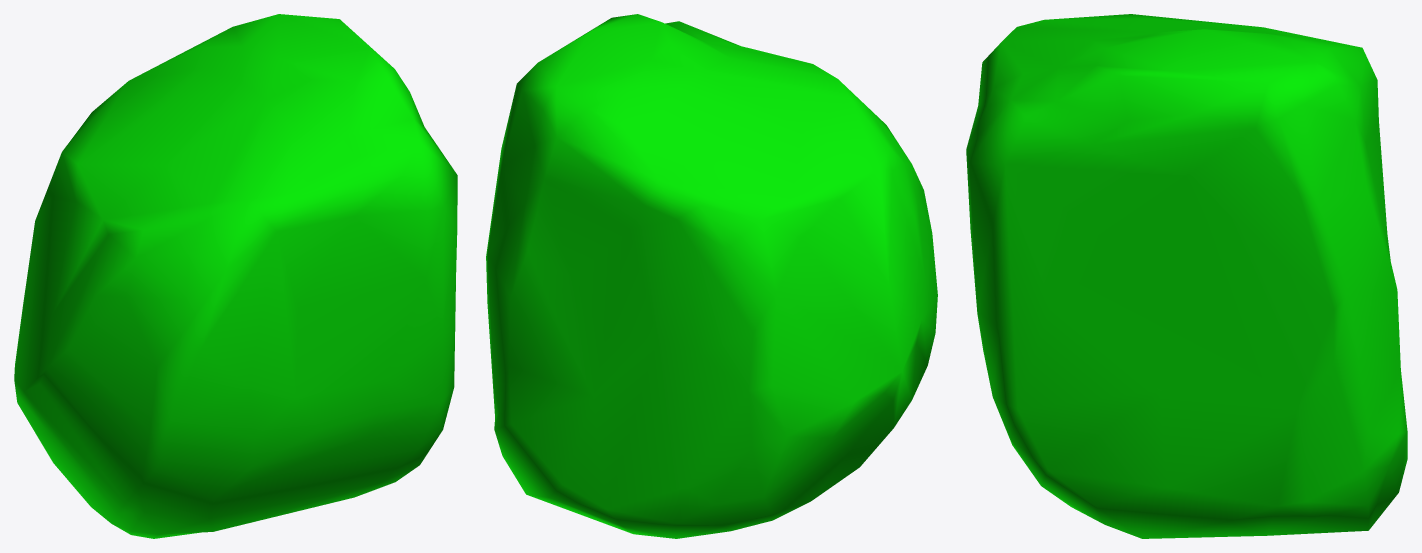
Rendered from Rock4_L.fbx.
3 views of the same model, side by side, from view 1: azimuth 30°, elevation 25°; view 2: azimuth 150°, elevation 25°; view 3: azimuth 270°, elevation 25° (orthographic). The views are drawn at different scales.
Parts seen in each view (by area): view 1: Rock4_TEST_L; view 2: Rock4_TEST_L; view 3: Rock4_TEST_L.
Part boxes in pixels (x1,y1,x2,y2): Rock4_TEST_L: (14,14,457,538); Rock4_TEST_L: (486,14,937,538); Rock4_TEST_L: (966,14,1407,538).
Size of the model in its own units: 3.98 by 4.38 by 3.6.
